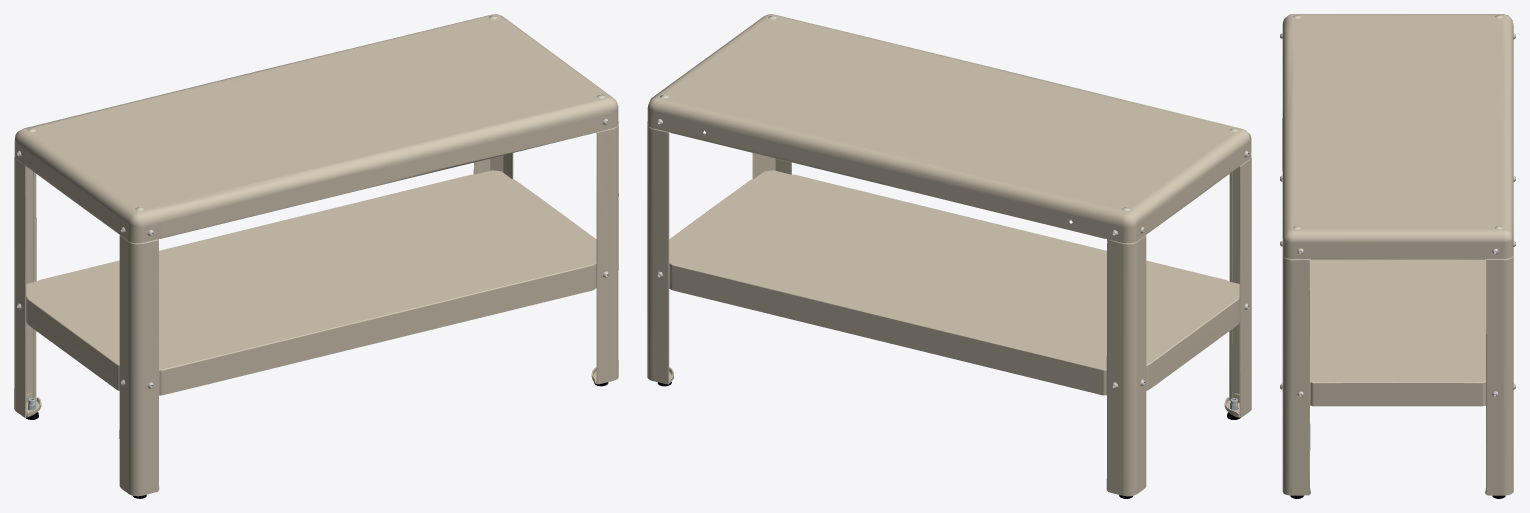
File: kolbjorn_rega_20601864.glb
The picture shows the model from 3 angles, left to right: view 1: azimuth 30°, elevation 25°; view 2: azimuth 150°, elevation 25°; view 3: azimuth 270°, elevation 25°; orthographic projection. The views are drawn at different scales.
Parts seen in each view (by area): view 1: kolbjorn_rega_20601864; view 2: kolbjorn_rega_20601864; view 3: kolbjorn_rega_20601864.
Boxes of the visible parts, box(x1,y1,x2,y2) form: kolbjorn_rega_20601864: box(14, 14, 618, 498); kolbjorn_rega_20601864: box(647, 14, 1251, 498); kolbjorn_rega_20601864: box(1280, 14, 1515, 498).
Bounding box in the file's own units: 0.8073 × 0.4523 × 0.3571.
Materials: 1 (1 with a texture image).
